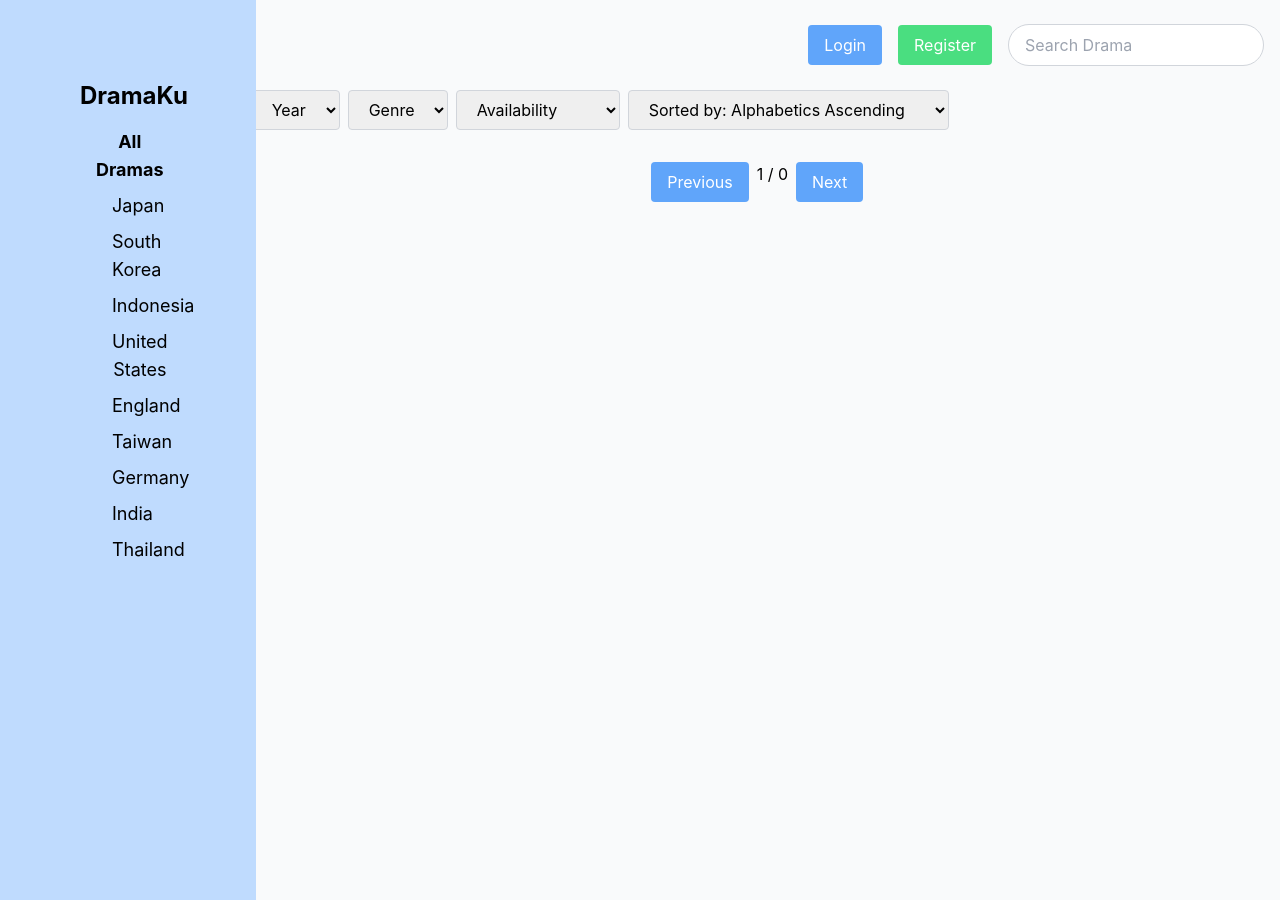
LandingPage func test › search drama
This screenshot has width=1280, height=900.
Type "Drama 1" into the field with placeholder "Search Drama" at (1136, 45), box [1008, 24, 1264, 66]
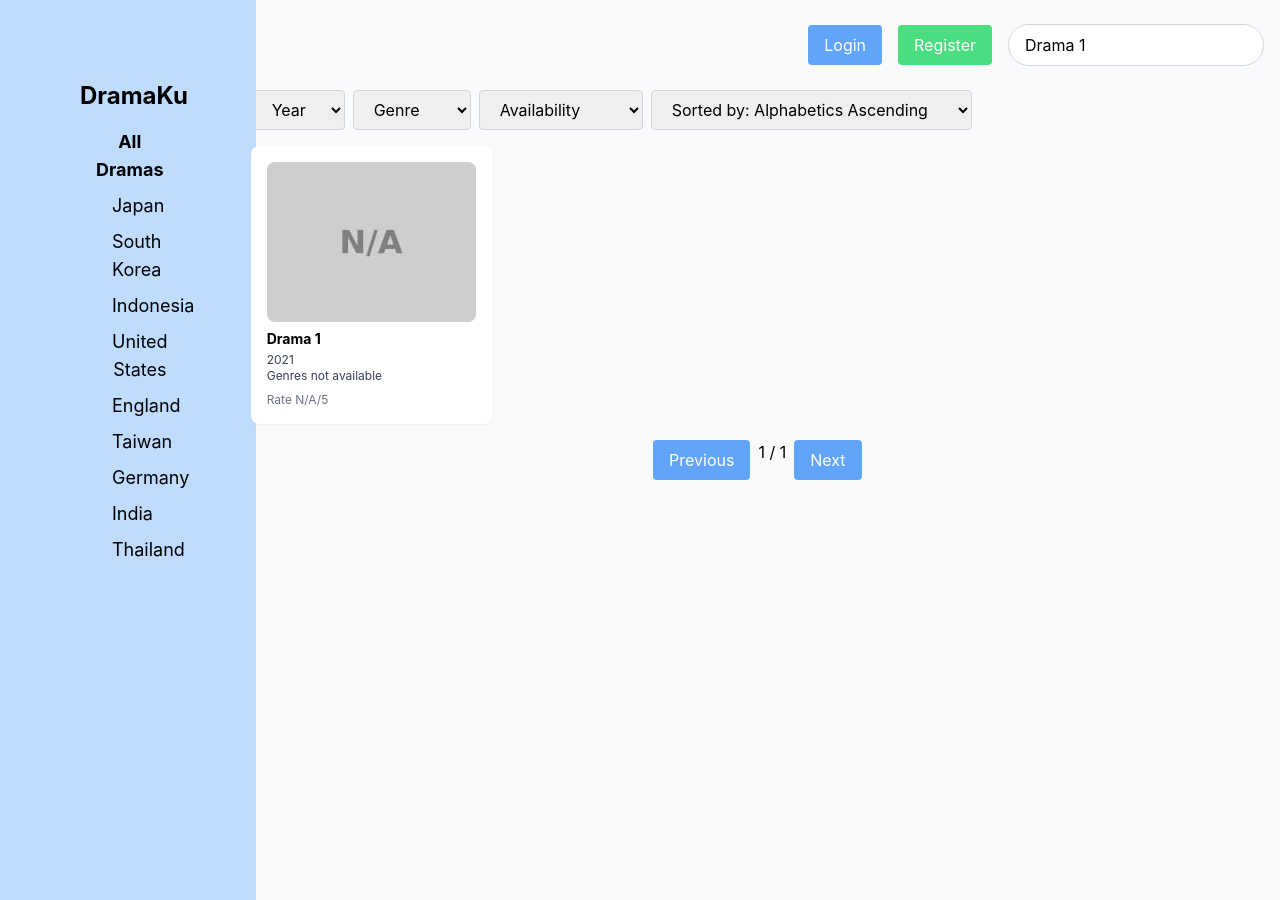
Check: the text "Drama 1" is shown, box [267, 330, 321, 347]
